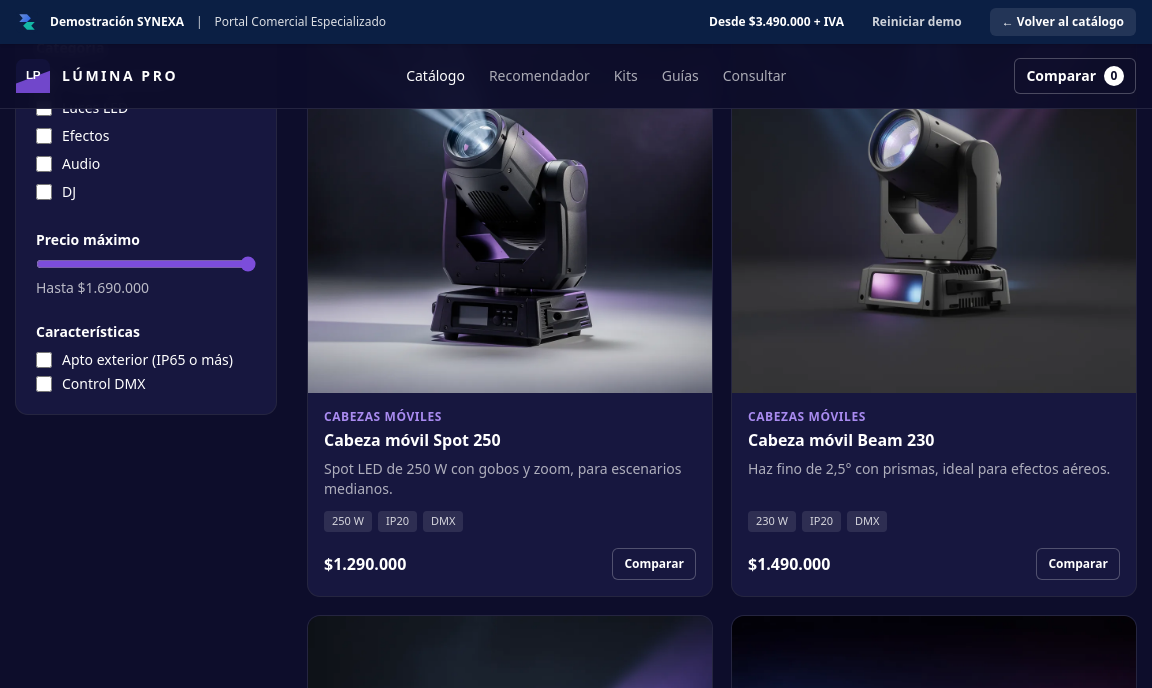
Test case: demo Lúmina Pro › filtra por exterior, DMX y texto, y avisa si no hay resultados
The image size is (1152, 688).
(page scrolled)
Click the checkbox labelled "Apto exterior (IP65 o más)".
click(44, 360)  # box [36,352,52,368]
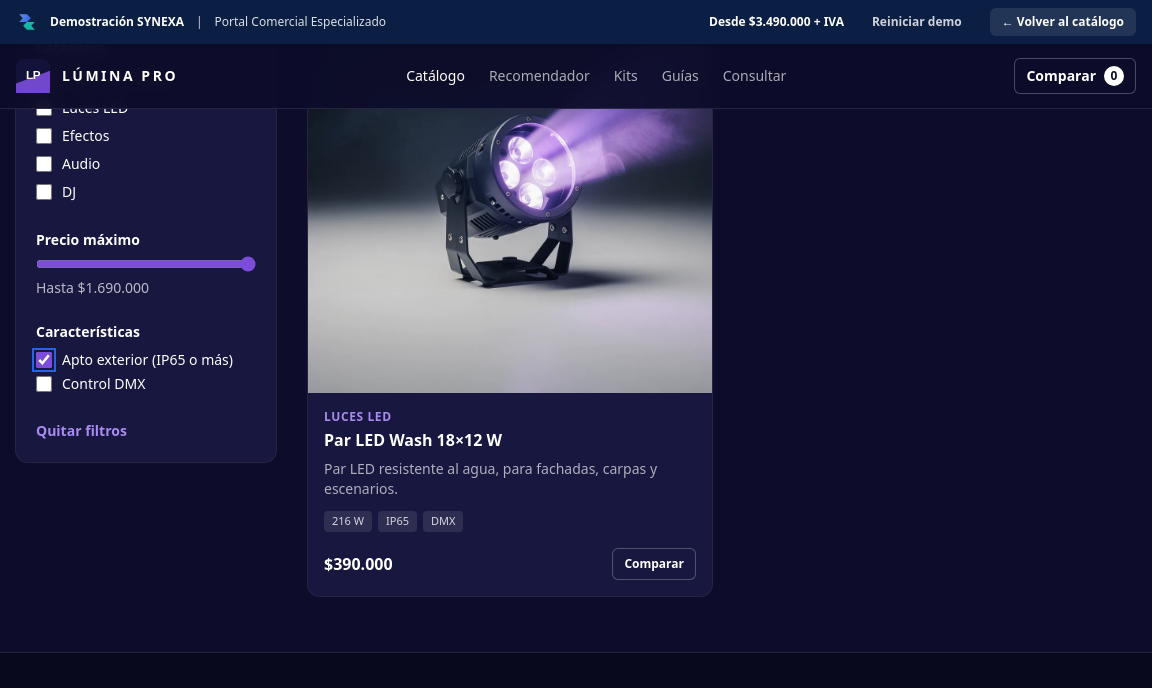
Click the checkbox labelled "Apto exterior (IP65 o más)".
click(44, 360)  # box [36,352,52,368]
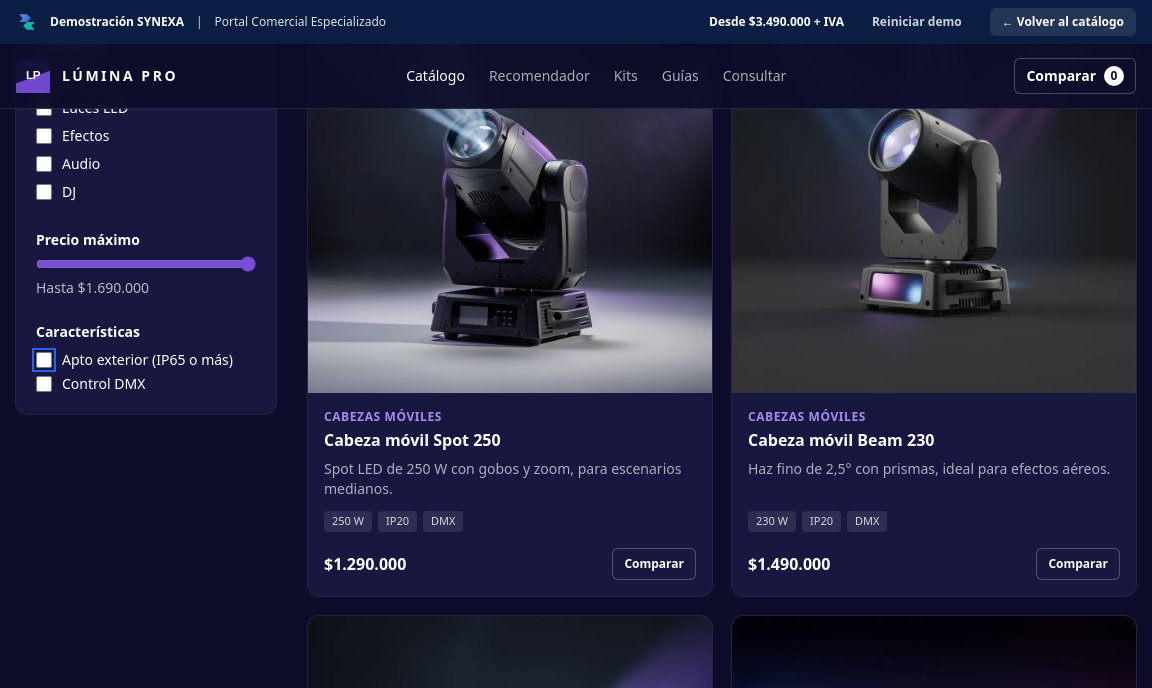
Click the checkbox labelled "Control DMX".
click(44, 384)  # box [36,376,52,392]
(page scrolled)
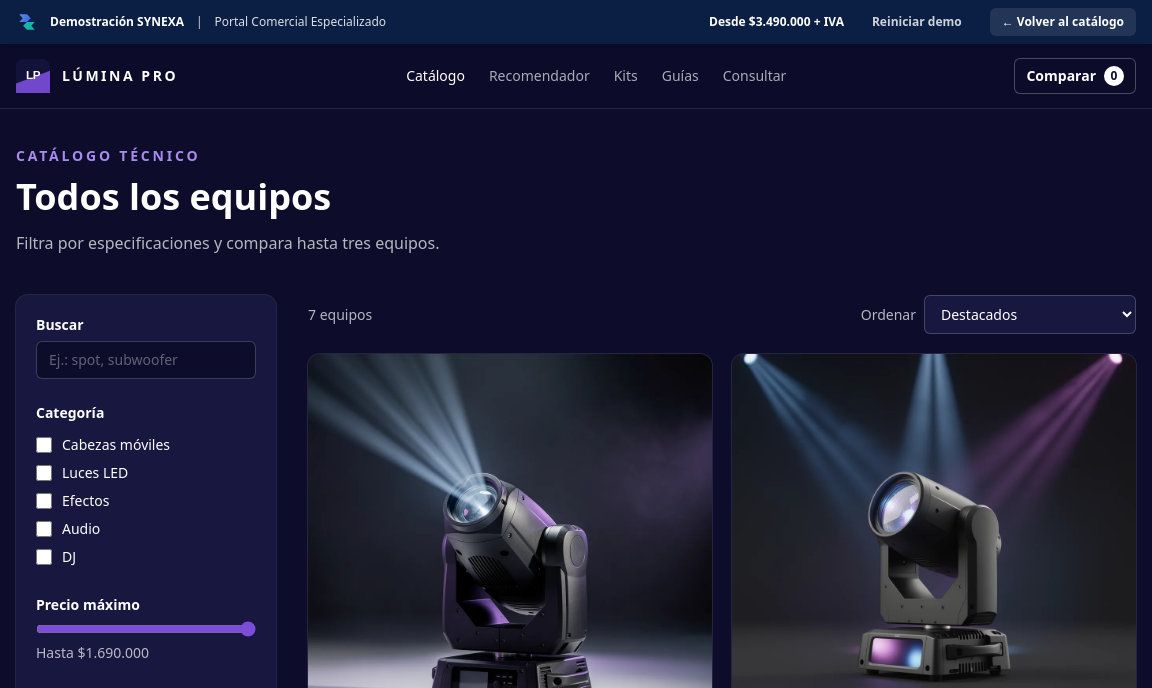
Type "zzz" into the search field labelled "Buscar".
click(146, 360); type("zzz")  # box [36,341,256,379]
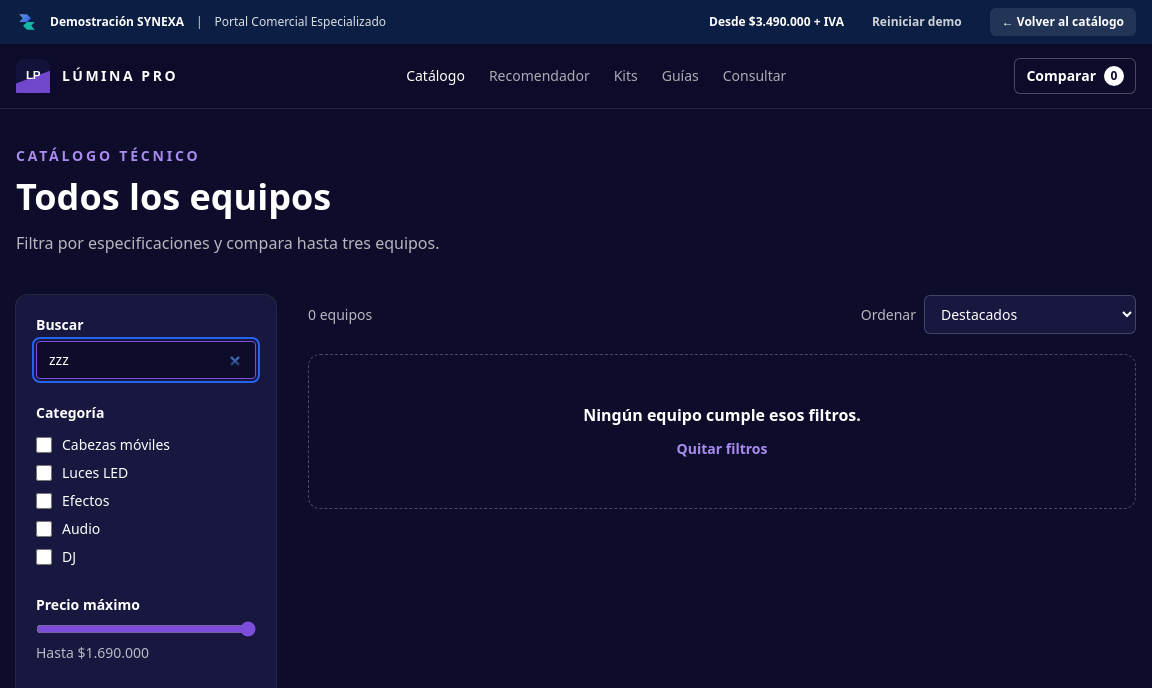
Expected: the text "Ningún equipo cumple esos filtros." is shown, [583,404,861,426]
